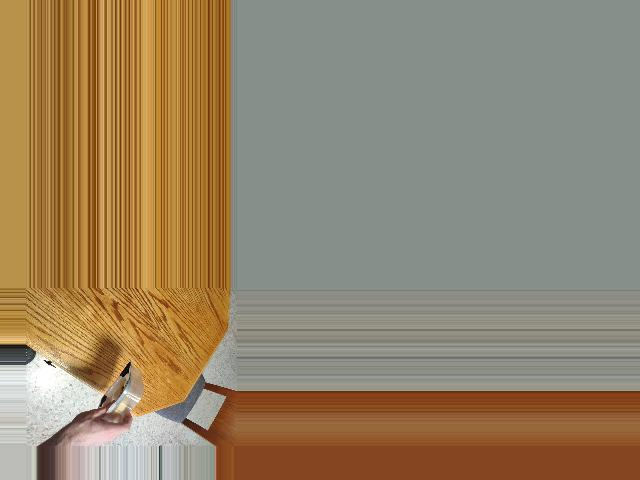cheese: (76, 367, 151, 430)
